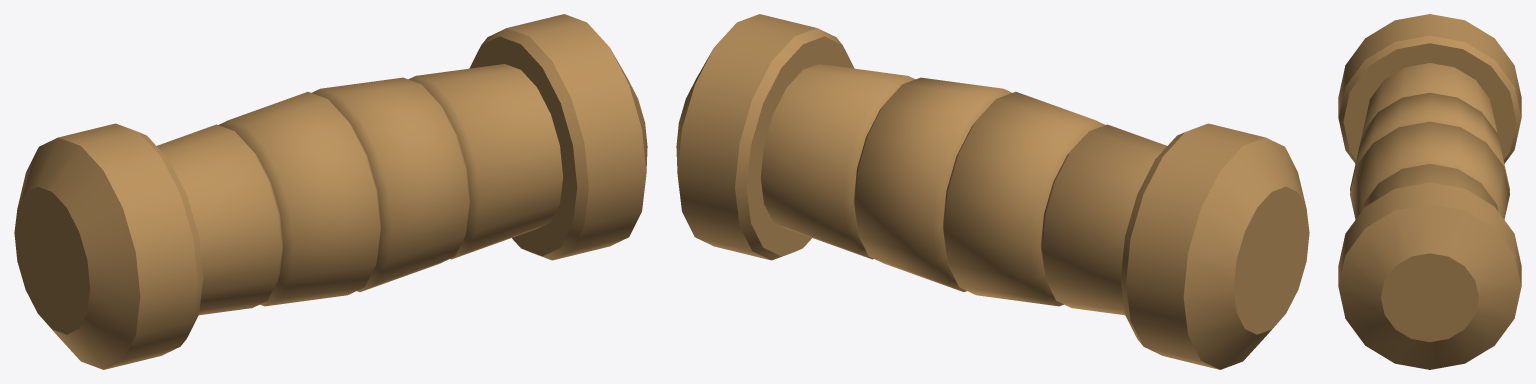
Rendered from Entity_Mace-handle.FBX.
The picture shows the model from 3 angles, left to right: view 1: azimuth 30°, elevation 25°; view 2: azimuth 150°, elevation 25°; view 3: azimuth 270°, elevation 25°; orthographic projection. The views are drawn at different scales.
Visible parts, largest first — view 1: Handle; view 2: Handle; view 3: Handle.
Part boxes in pixels (x1=…): Handle: x1=14, y1=14, x2=647, y2=369; Handle: x1=676, y1=14, x2=1309, y2=369; Handle: x1=1338, y1=14, x2=1521, y2=369.
Bounding box in the file's own units: 62.33 × 22.8 × 22.8.
